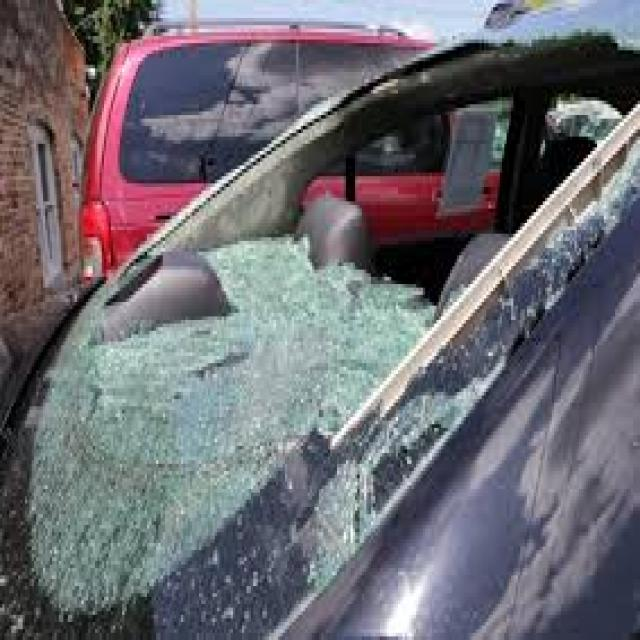minor: (23, 159, 608, 622)
